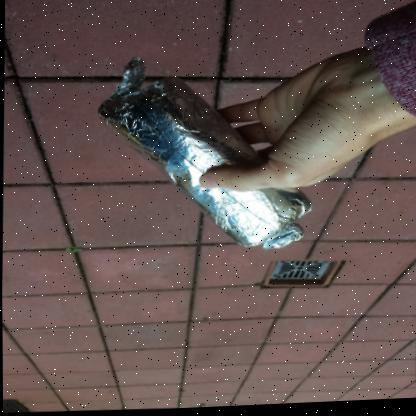Metal: (96, 57, 311, 252)
